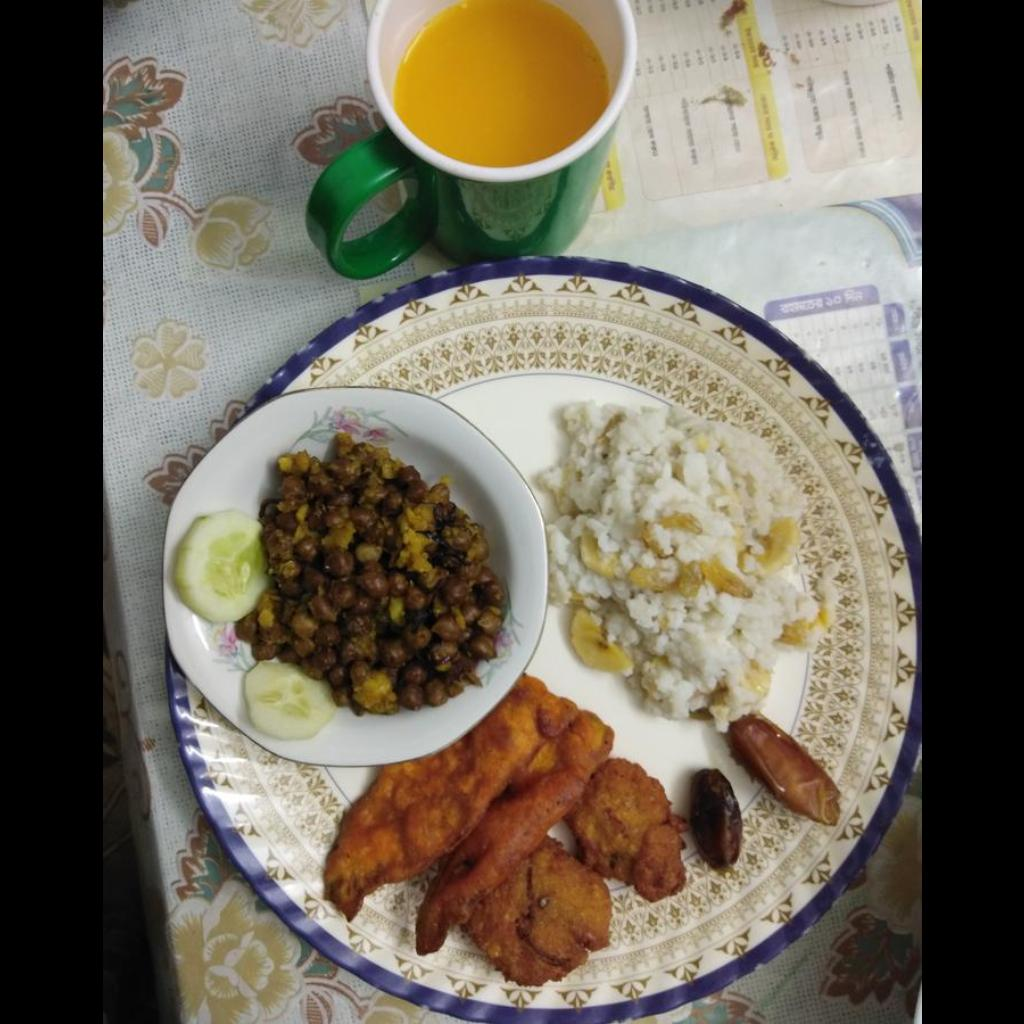beguni: (323, 676, 612, 953)
chola: (240, 432, 506, 714)
cucumber: (173, 511, 265, 624), (243, 659, 335, 741)
dates: (724, 715, 838, 825), (688, 768, 740, 868)
juice: (398, 7, 604, 163)
piyaju: (460, 759, 683, 984)
rice: (532, 402, 827, 730)
